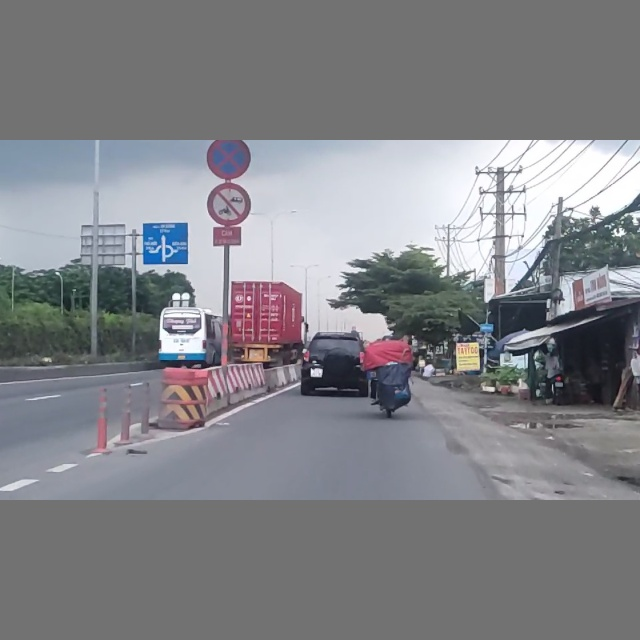P.111: (206, 182, 252, 225)
P.130: (205, 141, 252, 180)
